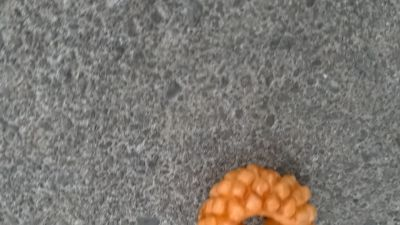eggs: (198, 163, 321, 225)
